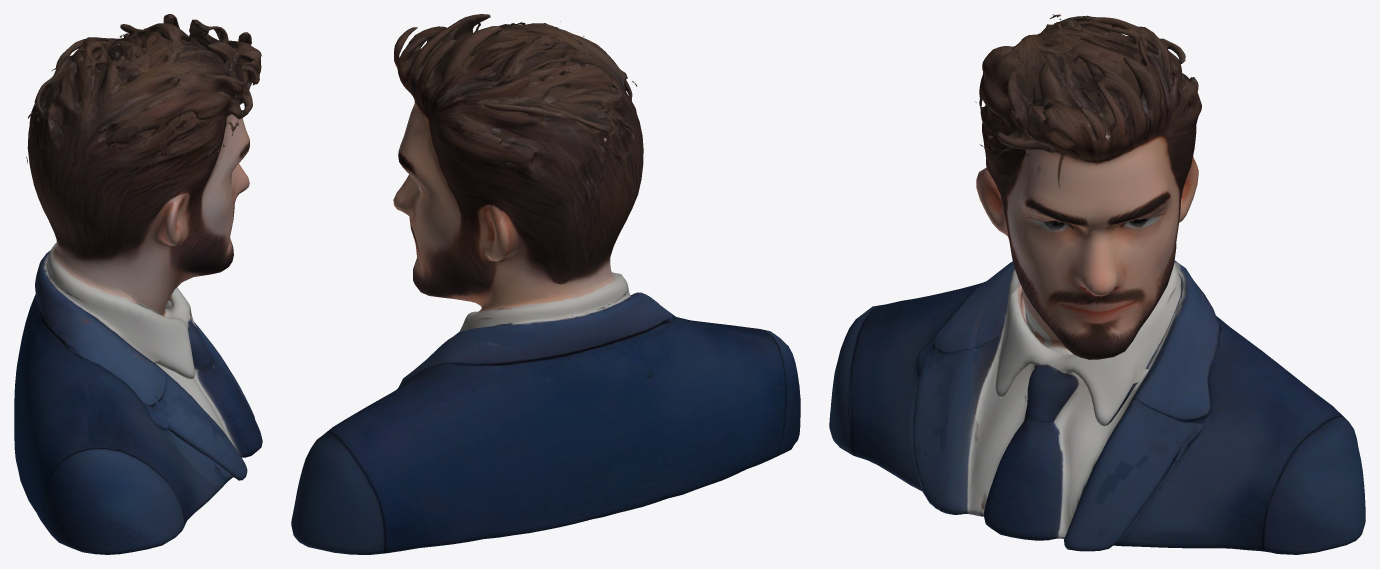
Rendered from suspect_2.glb.
3 views of the same model, side by side, from view 1: azimuth 30°, elevation 25°; view 2: azimuth 150°, elevation 25°; view 3: azimuth 270°, elevation 25° (orthographic). The views are drawn at different scales.
Visible parts, largest first — view 1: tripo_node_3981dd45-092c-4517-b5e8-70d4e45ec8f3; view 2: tripo_node_3981dd45-092c-4517-b5e8-70d4e45ec8f3; view 3: tripo_node_3981dd45-092c-4517-b5e8-70d4e45ec8f3.
Boxes of the visible parts, x1,y1,x2,y2 form: tripo_node_3981dd45-092c-4517-b5e8-70d4e45ec8f3: [14, 14, 262, 554]; tripo_node_3981dd45-092c-4517-b5e8-70d4e45ec8f3: [291, 14, 800, 554]; tripo_node_3981dd45-092c-4517-b5e8-70d4e45ec8f3: [829, 14, 1365, 554].
Bounding box in the file's own units: 0.7028 × 0.9497 × 0.9953.
Materials: 1 (1 with a texture image).
